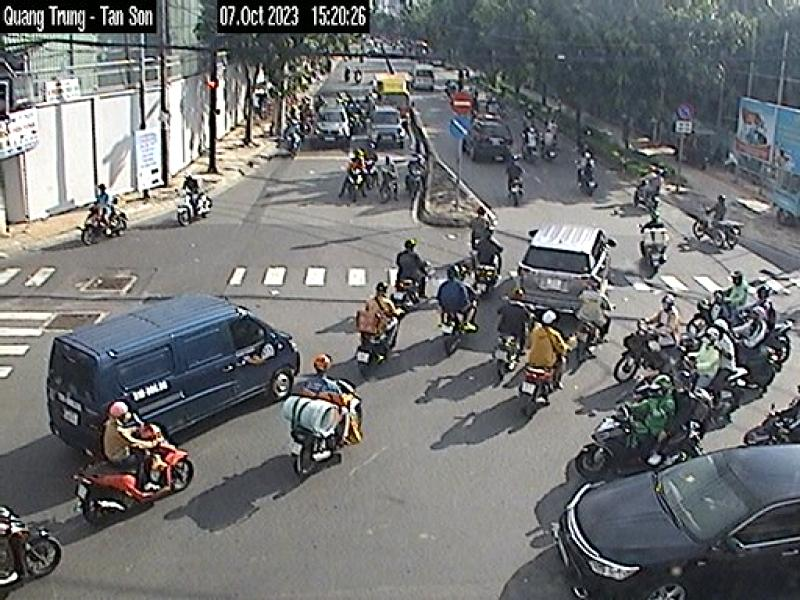car: (50, 293, 302, 469), (555, 442, 800, 600), (510, 225, 611, 318)
motorcycle: (80, 421, 196, 528), (580, 411, 705, 473), (0, 505, 64, 597), (283, 423, 345, 479), (516, 367, 554, 420), (80, 207, 132, 245), (349, 332, 390, 372), (493, 332, 520, 385), (436, 311, 466, 355)
